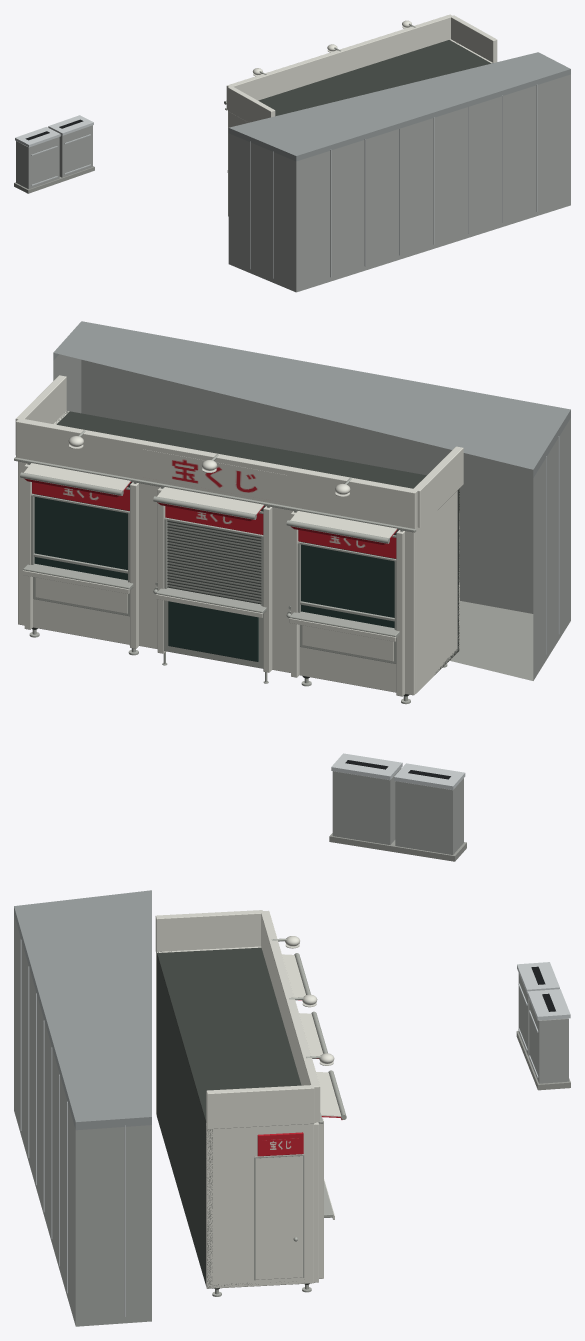
File: lottery.glb
3 views of the same model, one above another, from view 1: azimuth 30°, elevation 25°; view 2: azimuth 150°, elevation 25°; view 3: azimuth 270°, elevation 25° (orthographic). The views are drawn at different scales.
Visible parts, largest first — view 1: street_plaza_facilities_housing, street_plaza_facilities_roof, A28_01_Warm_pale_shell_and_lettering, A28_05_Recesses_feet_and_inferred_closures, street_plaza_facilities_steel, street_plaza_facilities_concrete; view 2: A28_01_Warm_pale_shell_and_lettering, street_plaza_facilities_housing, street_plaza_facilities_roof, A28_03_Silver_frames_and_shutter, A28_04_Dark_glazing_opaque_proxy, A28_05_Recesses_feet_and_inferred_closures, street_plaza_facilities_concrete, A28_06_Authored_Baokuji_wording_atlas, A28_02_Lottery_red_original_lettering, street_plaza_facilities_steel; view 3: A28_01_Warm_pale_shell_and_lettering, street_plaza_facilities_housing, street_plaza_facilities_roof, A28_05_Recesses_feet_and_inferred_closures, street_plaza_facilities_steel, A28_03_Silver_frames_and_shutter, A28_02_Lottery_red_original_lettering.
Part boxes in pixels (bbox=[...]): street_plaza_facilities_housing: bbox=[16, 74, 570, 292]; street_plaza_facilities_roof: bbox=[228, 52, 570, 161]; A28_01_Warm_pale_shell_and_lettering: bbox=[226, 14, 497, 216]; A28_05_Recesses_feet_and_inferred_closures: bbox=[258, 40, 492, 116]; street_plaza_facilities_steel: bbox=[15, 84, 537, 278]; street_plaza_facilities_concrete: bbox=[14, 166, 94, 193]; A28_01_Warm_pale_shell_and_lettering: bbox=[15, 375, 463, 696]; street_plaza_facilities_housing: bbox=[53, 354, 570, 854]; street_plaza_facilities_roof: bbox=[53, 321, 570, 477]; A28_03_Silver_frames_and_shutter: bbox=[14, 430, 447, 704]; A28_04_Dark_glazing_opaque_proxy: bbox=[34, 494, 395, 661]; A28_05_Recesses_feet_and_inferred_closures: bbox=[32, 411, 459, 696]; street_plaza_facilities_concrete: bbox=[329, 601, 533, 861]; A28_06_Authored_Baokuji_wording_atlas: bbox=[51, 449, 377, 552]; A28_02_Lottery_red_original_lettering: bbox=[24, 478, 397, 558]; street_plaza_facilities_steel: bbox=[331, 436, 559, 789]; A28_01_Warm_pale_shell_and_lettering: bbox=[155, 910, 341, 1288]; street_plaza_facilities_housing: bbox=[14, 915, 568, 1326]; street_plaza_facilities_roof: bbox=[14, 890, 151, 1130]; A28_05_Recesses_feet_and_inferred_closures: bbox=[156, 947, 309, 1289]; street_plaza_facilities_steel: bbox=[20, 940, 570, 1316]; A28_03_Silver_frames_and_shutter: bbox=[212, 938, 346, 1296]; A28_02_Lottery_red_original_lettering: bbox=[257, 1000, 342, 1156].
Size of the model in its own units: 9.28 by 3.16 by 7.48.
11 materials, 1 textured.
